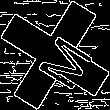M_NW: (21, 22, 89, 88)
